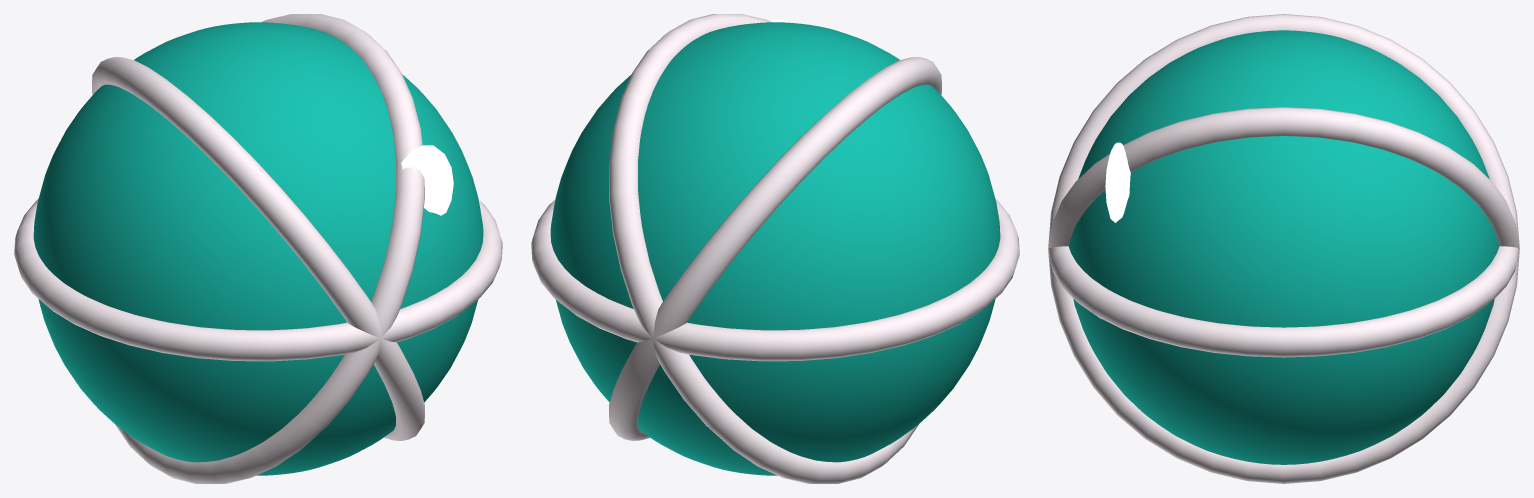
The model's file is bola-permen.glb.
3 renders of one model, left to right at view 1: azimuth 30°, elevation 25°; view 2: azimuth 150°, elevation 25°; view 3: azimuth 270°, elevation 25°, orthographic. The views are drawn at different scales.
Visible parts, largest first — view 1: Sphere, Torus.022, Torus.020, Torus.021, Sphere.001; view 2: Sphere, Torus.022, Torus.020, Torus.021; view 3: Sphere, Torus.021, Torus.020, Torus.022, Sphere.001.
Boxes of the visible parts, x1,y1,x2,y2 form: Sphere: (33, 22, 483, 475); Torus.022: (115, 14, 424, 483); Torus.020: (14, 199, 502, 361); Torus.021: (92, 57, 424, 440); Sphere.001: (401, 145, 453, 215); Sphere: (550, 22, 1000, 475); Torus.022: (609, 14, 918, 483); Torus.020: (531, 199, 1019, 361); Torus.021: (609, 57, 941, 440); Sphere: (1068, 30, 1499, 464); Torus.021: (1048, 14, 1519, 483); Torus.020: (1048, 246, 1519, 357); Torus.022: (1048, 107, 1519, 248); Sphere.001: (1105, 142, 1130, 222).
Size of the model in its own units: 4.28 by 3.99 by 4.28.
